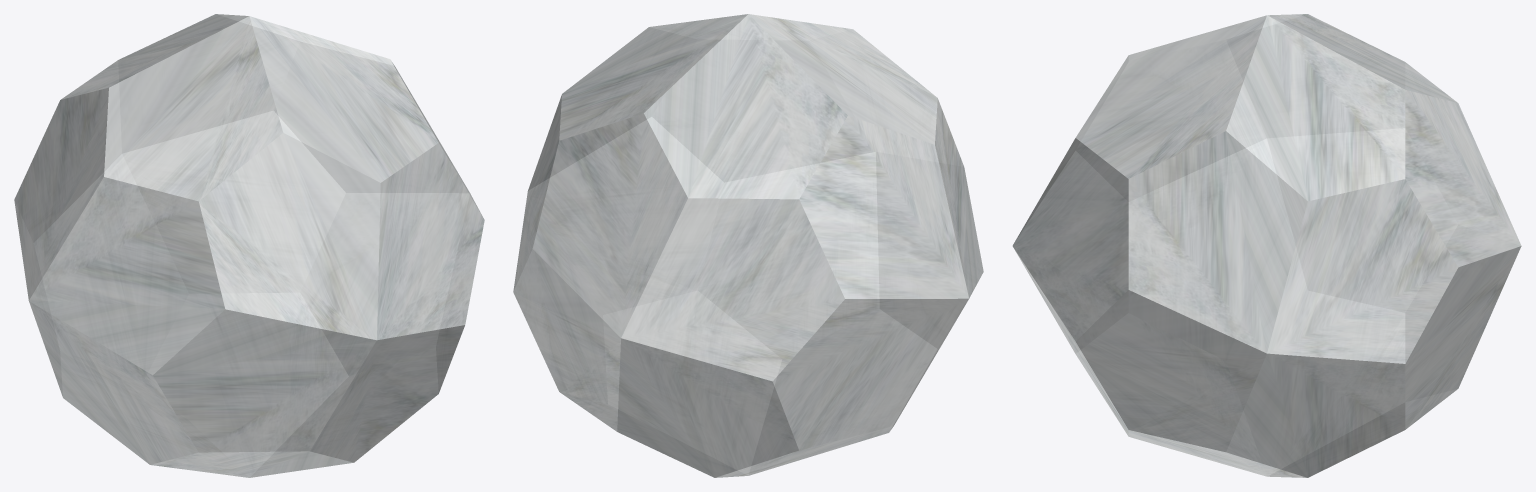
The model's file is PentagonalIcositetrahedron.obj.
3 views of the same model, side by side, from view 1: azimuth 30°, elevation 25°; view 2: azimuth 150°, elevation 25°; view 3: azimuth 270°, elevation 25° (orthographic).
Size of the model in its own units: 2.72 by 2.72 by 2.72.
Materials: 1 (1 with a texture image).
